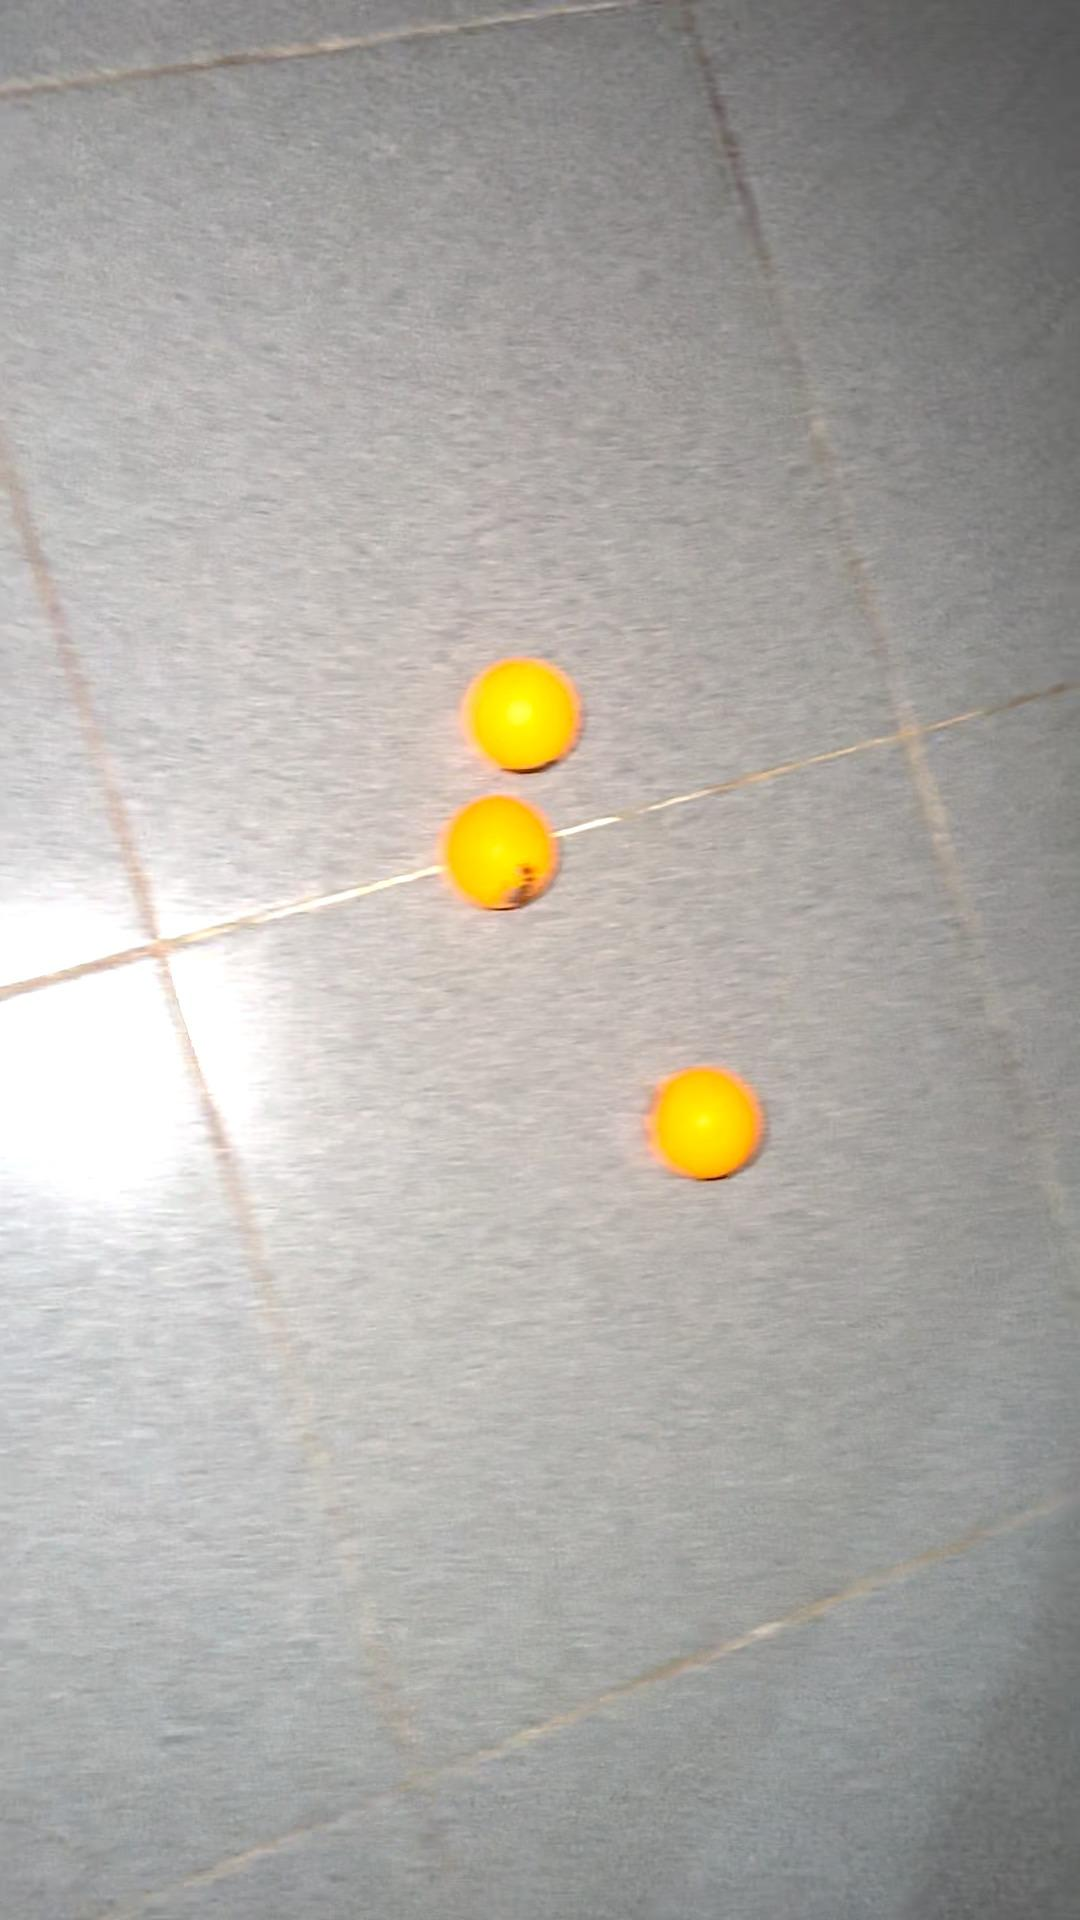oball: (634, 1058, 773, 1188), (462, 641, 585, 783), (438, 778, 562, 906)
